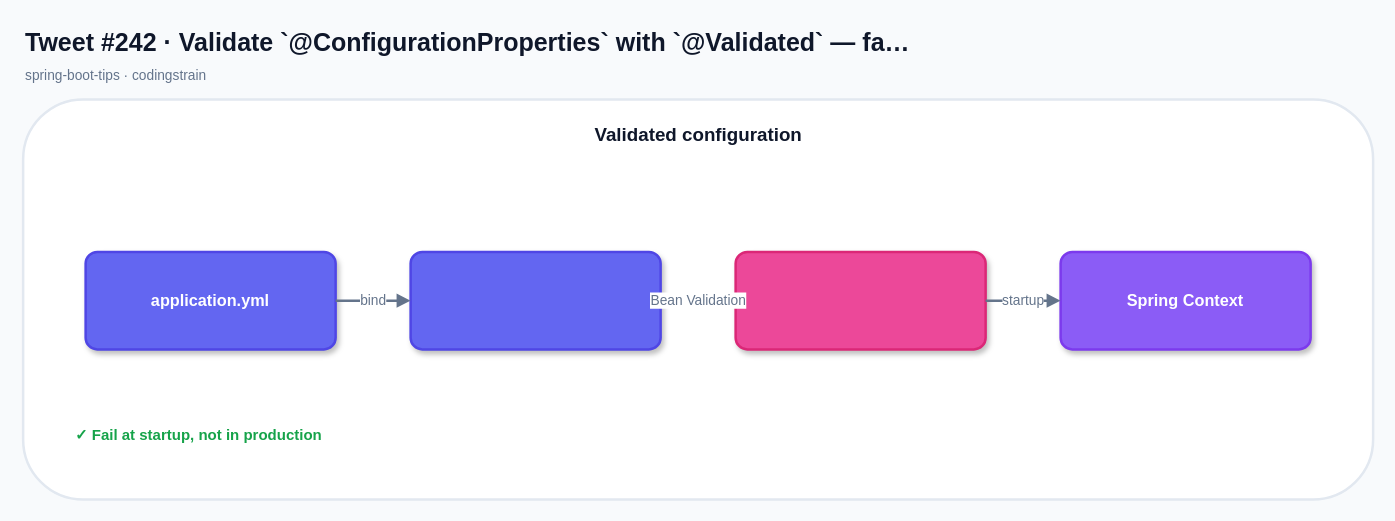
This 1395x521 diagram has some shape labels left out. Each missing label, with the centre of its shape:
@ConfigurationProperties: point (536, 302)
@Validated: point (861, 302)
